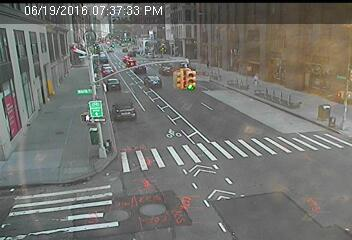neg: (290, 124, 311, 151), (254, 117, 270, 139), (156, 80, 170, 99), (208, 125, 221, 143), (158, 137, 169, 152), (50, 65, 61, 79), (105, 100, 115, 114), (92, 137, 102, 149)
pos: (249, 72, 262, 89), (204, 57, 213, 69)
